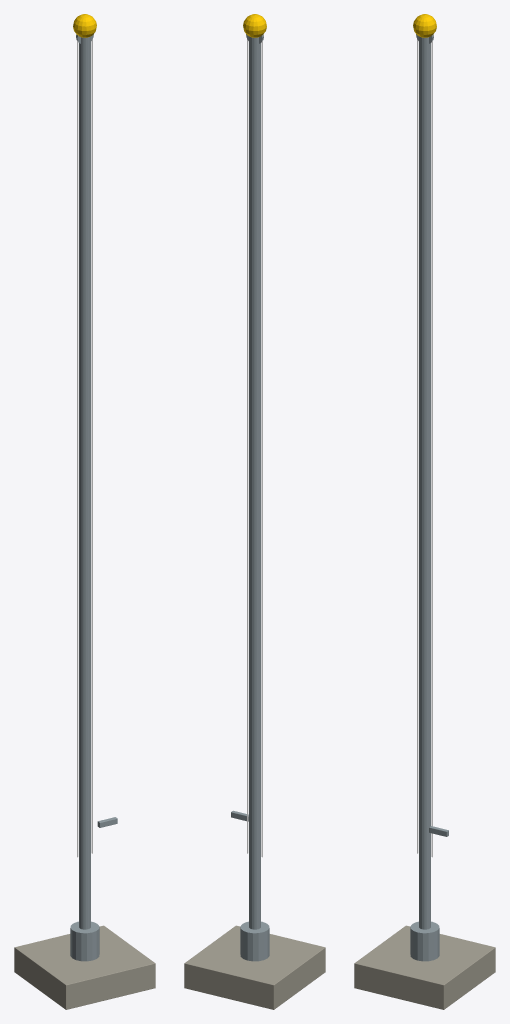
File: source-edit.glb
3 renders of one model, left to right at view 1: azimuth 30°, elevation 25°; view 2: azimuth 150°, elevation 25°; view 3: azimuth 330°, elevation 25°, orthographic.
Visible parts, largest first — view 1: Pole, Concrete_Base, Halyard, Halyard.001, Socket, Finial; view 2: Pole, Concrete_Base, Halyard, Halyard.001, Socket, Finial; view 3: Pole, Concrete_Base, Halyard, Halyard.001, Socket, Finial.
Boxes of the visible parts, x1,y1,x2,y2 form: Pole: (79,36,90,929); Concrete_Base: (14,925,155,1009); Halyard: (77,40,78,857); Halyard.001: (91,39,92,853); Socket: (70,921,99,961); Finial: (73,14,96,37); Pole: (249,36,260,929); Concrete_Base: (184,925,325,1009); Halyard: (261,40,262,857); Halyard.001: (247,39,248,853); Socket: (240,921,269,961); Finial: (243,14,266,37); Pole: (419,36,430,929); Concrete_Base: (354,925,495,1009); Halyard: (417,39,418,853); Halyard.001: (431,40,432,857); Socket: (410,921,439,961); Finial: (413,14,436,37).
Size of the model in its own units: 0.6 by 6.17 by 0.6.
